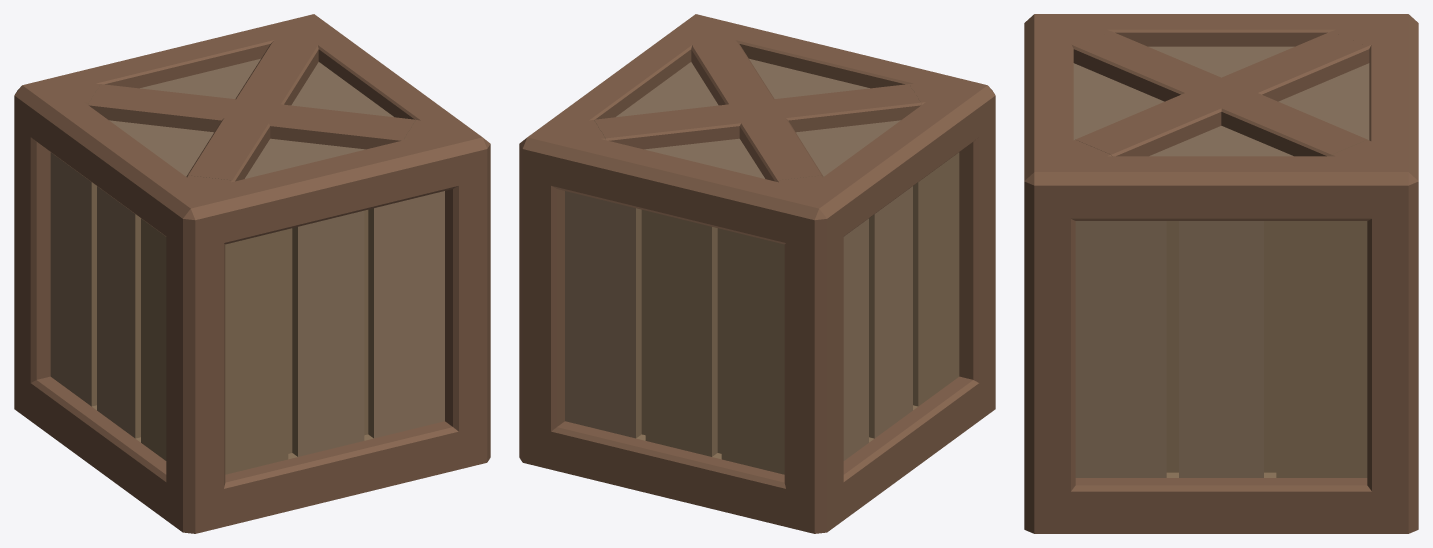
Rendered from barrel.glb.
The picture shows the model from 3 angles, left to right: view 1: azimuth 30°, elevation 25°; view 2: azimuth 150°, elevation 25°; view 3: azimuth 270°, elevation 25°; orthographic projection. The views are drawn at different scales.
Visible parts, largest first — view 1: Cube.002; view 2: Cube.002; view 3: Cube.002.
Boxes of the visible parts, x1,y1,x2,y2 form: Cube.002: (14, 14, 490, 533); Cube.002: (519, 14, 995, 533); Cube.002: (1024, 14, 1418, 533).
Bounding box in the file's own units: 1 × 1 × 1.
1 material, 1 textured.
